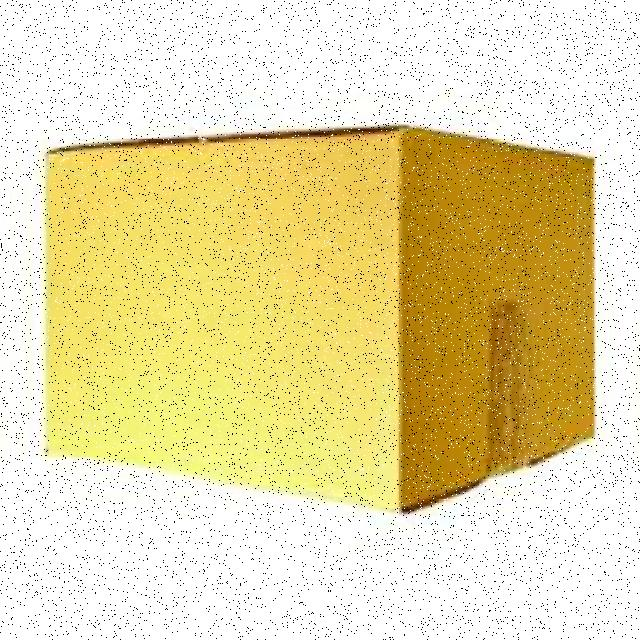normal: (40, 121, 602, 518)
